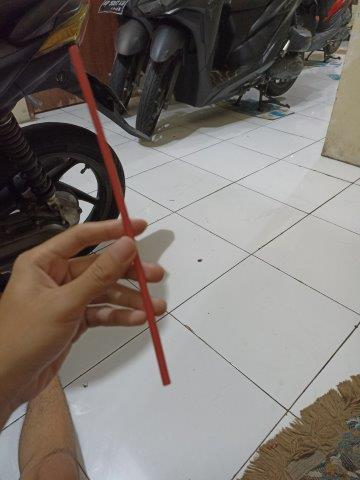sedotan: (69, 47, 169, 384)
